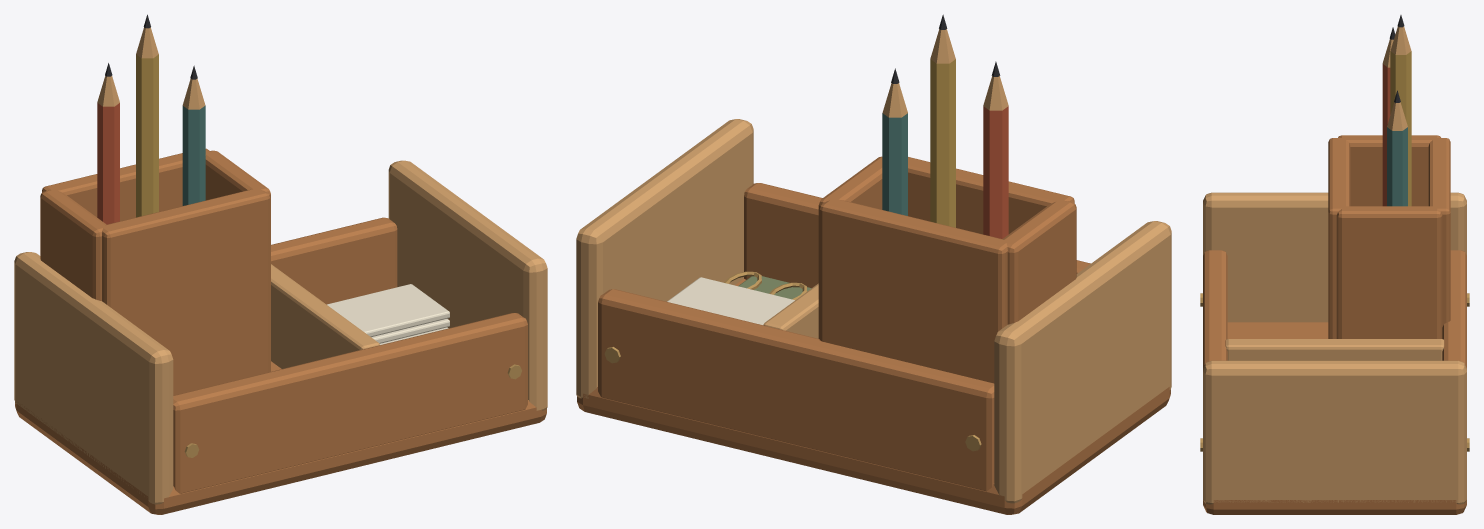
Rendered from 025_desk_organizer_v03.glb.
The picture shows the model from 3 angles, left to right: view 1: azimuth 30°, elevation 25°; view 2: azimuth 150°, elevation 25°; view 3: azimuth 270°, elevation 25°; orthographic projection. The views are drawn at different scales.
Parts seen in each view (by area): view 1: Front and rear tray rails.001, Tall pencil well front, Rounded caddy side cheek, Rounded caddy side cheek.001, Maple caddy base, Front and rear tray rails, Tray partition, Pencil well side, Stacked index card3, Hexagonal colored pencil1, Tall pencil well back, Hexagonal colored pencil0 (+3 smaller); view 2: Front and rear tray rails, Rounded caddy side cheek, Tall pencil well back, Rounded caddy side cheek.001, Maple caddy base, Front and rear tray rails.001, Pencil well side, Tall pencil well front, Hexagonal colored pencil1, Hexagonal colored pencil0, Stacked index card3, Hexagonal colored pencil2 (+3 smaller); view 3: Rounded caddy side cheek.001, Rounded caddy side cheek, Pencil well side.001, Maple caddy base, Tray partition, Pencil well side, Tall pencil well front, Front and rear tray rails.001, Tall pencil well back, Front and rear tray rails, Hexagonal colored pencil2, Hexagonal colored pencil1 (+3 smaller).
Boxes of the visible parts, <box> form: Front and rear tray rails.001: <box>173,313,527,493</box>; Tall pencil well front: <box>102,189,270,395</box>; Rounded caddy side cheek: <box>14,252,173,504</box>; Rounded caddy side cheek.001: <box>388,160,547,410</box>; Maple caddy base: <box>15,361,546,514</box>; Front and rear tray rails: <box>271,217,397,304</box>; Tray partition: <box>271,264,379,368</box>; Pencil well side: <box>40,190,106,300</box>; Stacked index card3: <box>327,284,449,337</box>; Hexagonal colored pencil1: <box>136,54,158,217</box>; Tall pencil well back: <box>42,148,210,221</box>; Hexagonal colored pencil0: <box>97,103,119,224</box>; Front and rear tray rails: <box>598,289,994,491</box>; Rounded caddy side cheek: <box>994,221,1171,503</box>; Tall pencil well back: <box>819,199,1007,383</box>; Rounded caddy side cheek.001: <box>576,119,753,398</box>; Maple caddy base: <box>577,279,1170,514</box>; Front and rear tray rails.001: <box>744,183,1090,288</box>; Pencil well side: <box>1002,199,1076,324</box>; Tall pencil well front: <box>908,157,1074,234</box>; Hexagonal colored pencil1: <box>930,59,955,227</box>; Hexagonal colored pencil0: <box>983,106,1008,238</box>; Stacked index card3: <box>667,277,794,324</box>; Hexagonal colored pencil2: <box>882,113,907,215</box>; Rounded caddy side cheek.001: <box>1203,360,1466,504</box>; Rounded caddy side cheek: <box>1203,192,1466,322</box>; Pencil well side.001: <box>1336,206,1442,338</box>; Maple caddy base: <box>1203,322,1466,514</box>; Tray partition: <box>1225,339,1444,360</box>; Pencil well side: <box>1338,135,1440,206</box>; Tall pencil well front: <box>1328,138,1350,338</box>; Front and rear tray rails.001: <box>1203,250,1227,368</box>; Tall pencil well back: <box>1428,138,1450,326</box>; Front and rear tray rails: <box>1442,250,1466,368</box>; Hexagonal colored pencil2: <box>1387,127,1407,206</box>; Hexagonal colored pencil1: <box>1390,51,1411,206</box>.
Bounding box in the file's own units: 0.48 × 0.4665 × 0.306.
